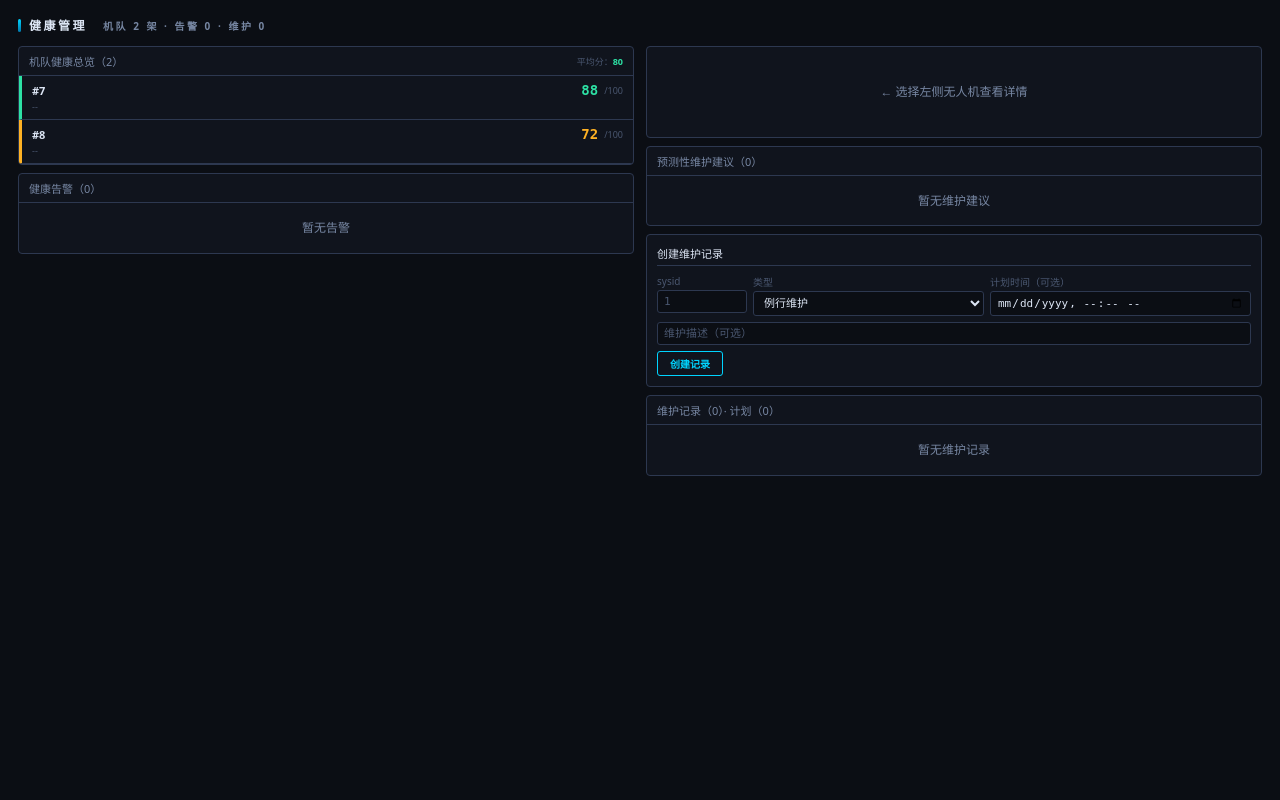
Test: HealthPanel 读的是后端 DTO 的真实字段名 › 单机总评分读 overallScore（旧代码读 score → 显示 --/100）
Click the text "#7".
click(39, 90)  # box top-left (32, 82), bottom-right (45, 98)
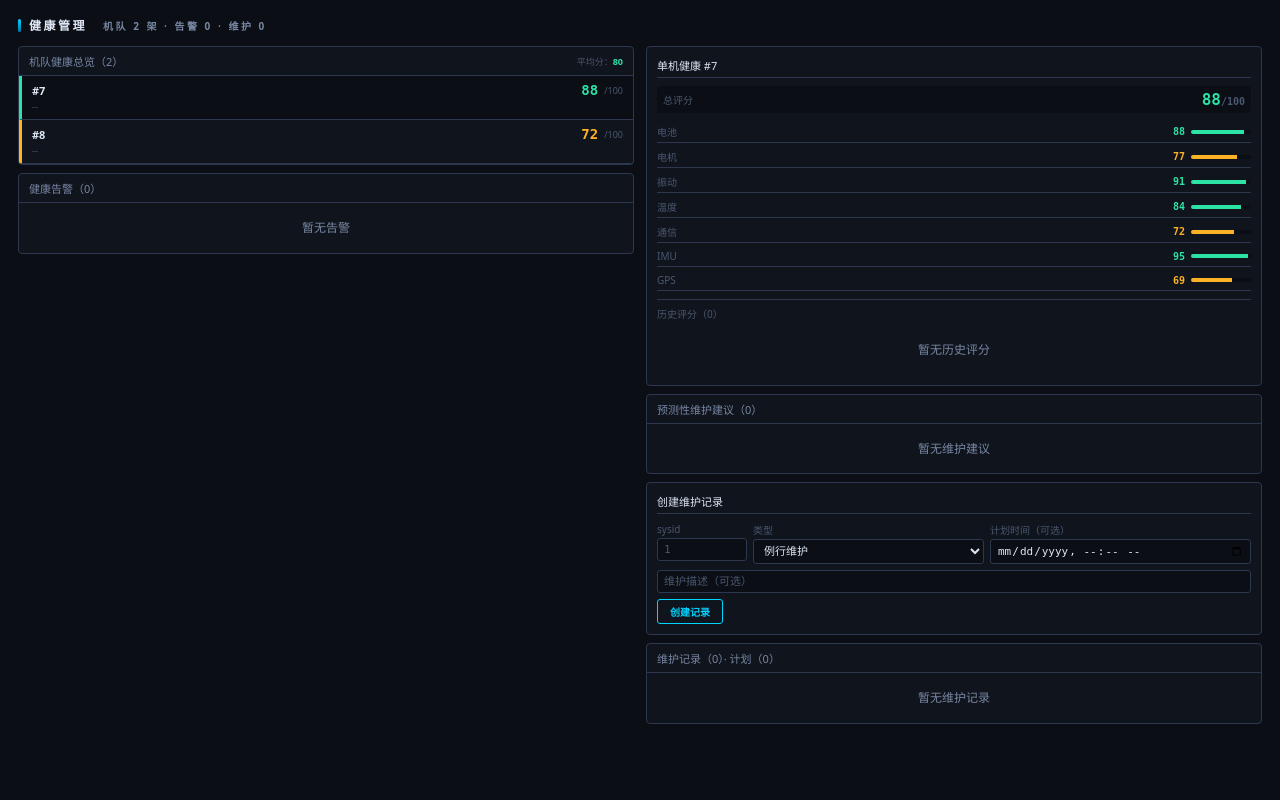
Now the text "总评分" is shown, box top-left (663, 92), bottom-right (693, 107)
